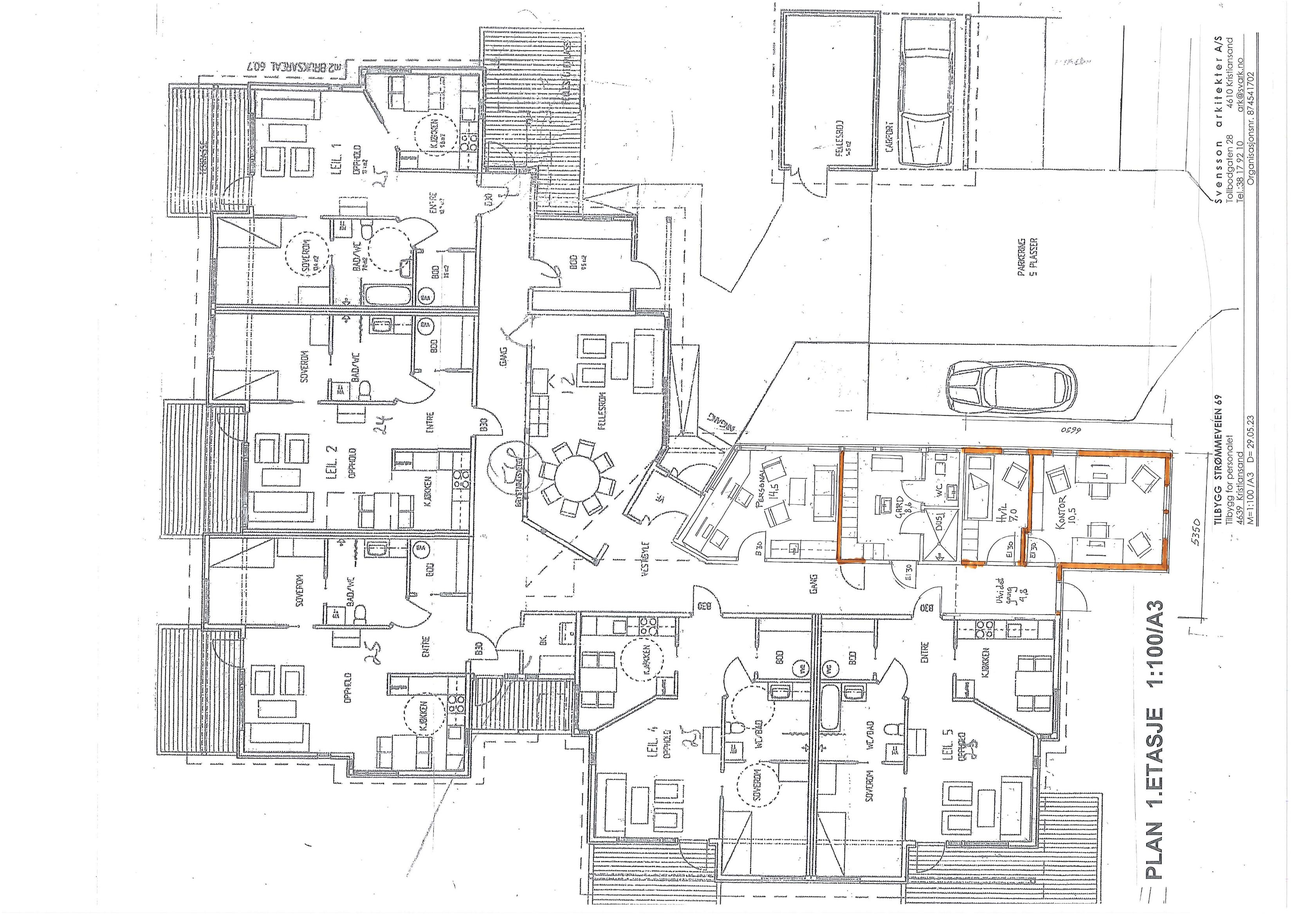plantegning: (154, 22, 1169, 904)
tekst: (1143, 598, 1166, 888), (1246, 469, 1255, 525)
